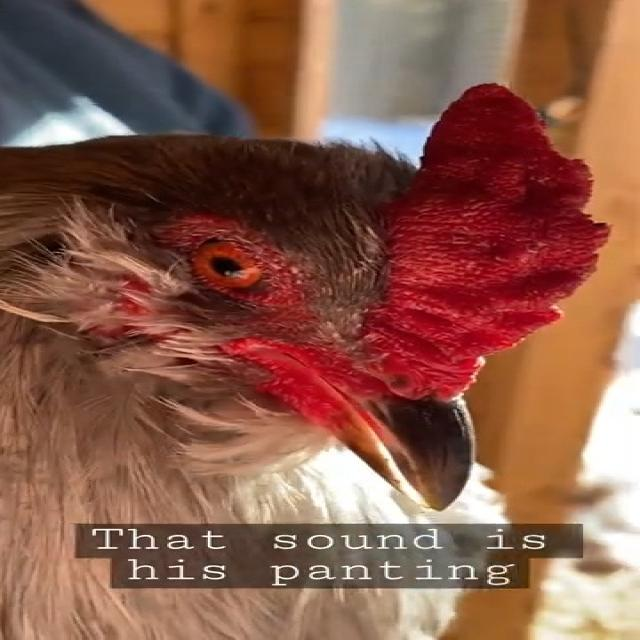Breathing: (7, 72, 640, 626)
